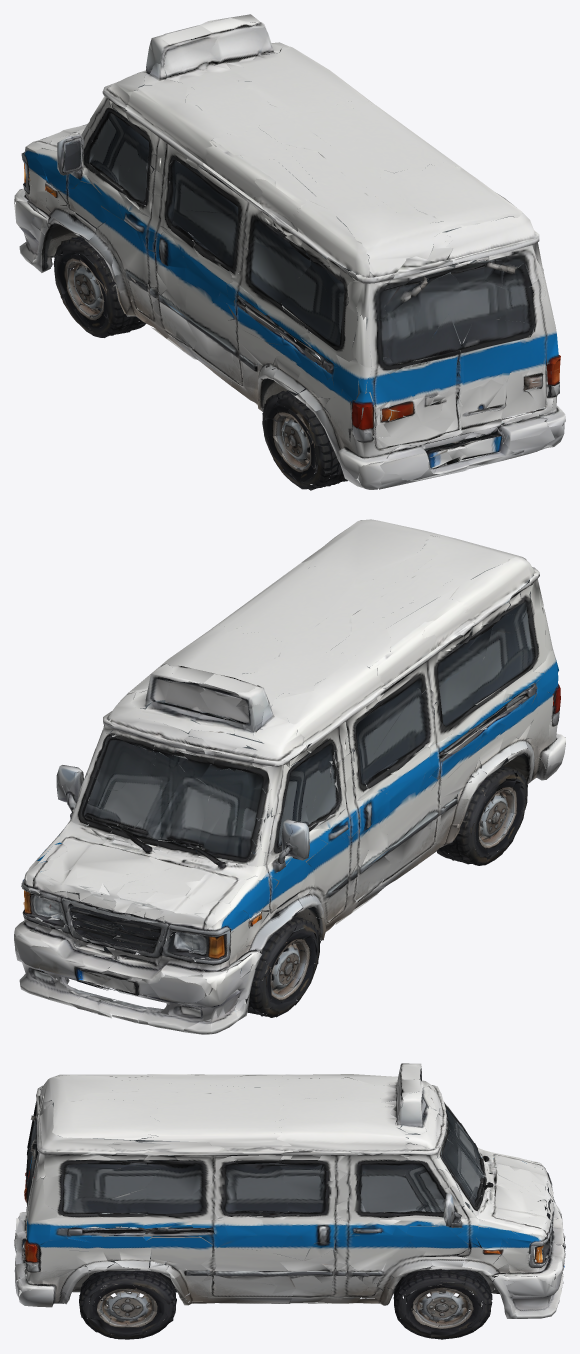
The model's file is Minibus.fbx.
3 views of the same model, one above another, from view 1: azimuth 30°, elevation 25°; view 2: azimuth 150°, elevation 25°; view 3: azimuth 270°, elevation 25° (orthographic). The views are drawn at different scales.
Visible parts, largest first — view 1: Minibus; view 2: Minibus; view 3: Minibus.
Boxes of the visible parts, bbox=[...] form: Minibus: bbox=[14, 14, 565, 490]; Minibus: bbox=[14, 519, 565, 1034]; Minibus: bbox=[14, 1063, 565, 1339].
Size of the model in its own units: 2.32 by 2.61 by 5.85.
Materials: 1 (1 with a texture image).
